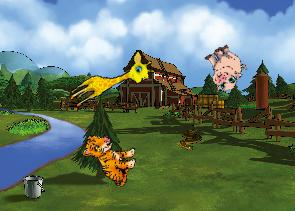giraffe: (65, 47, 158, 118)
pig: (197, 40, 251, 95)
tiger: (77, 131, 140, 188)
